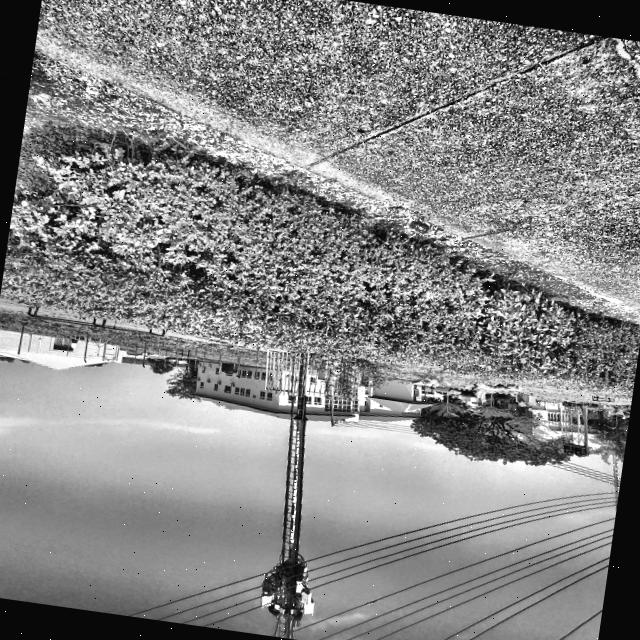poles: (193, 348, 378, 640)
sidewalks: (10, 0, 640, 311)
